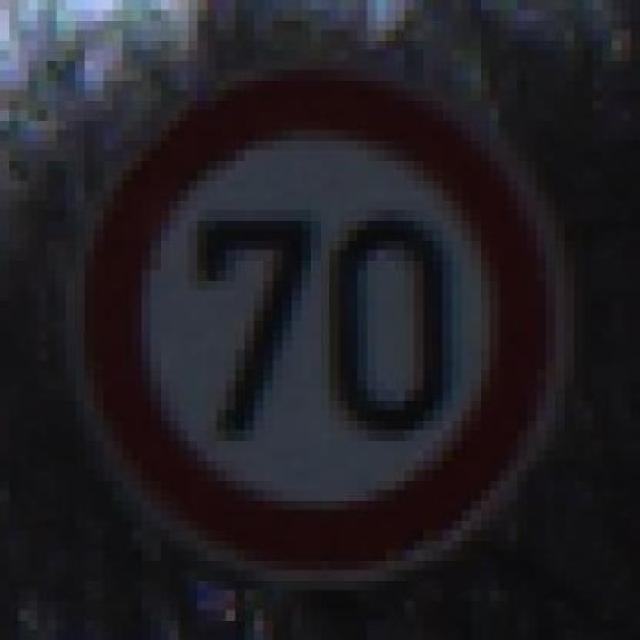forb_speed_over_70: (76, 72, 558, 573)
